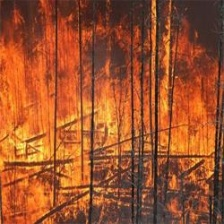fire: (1, 8, 224, 224)
